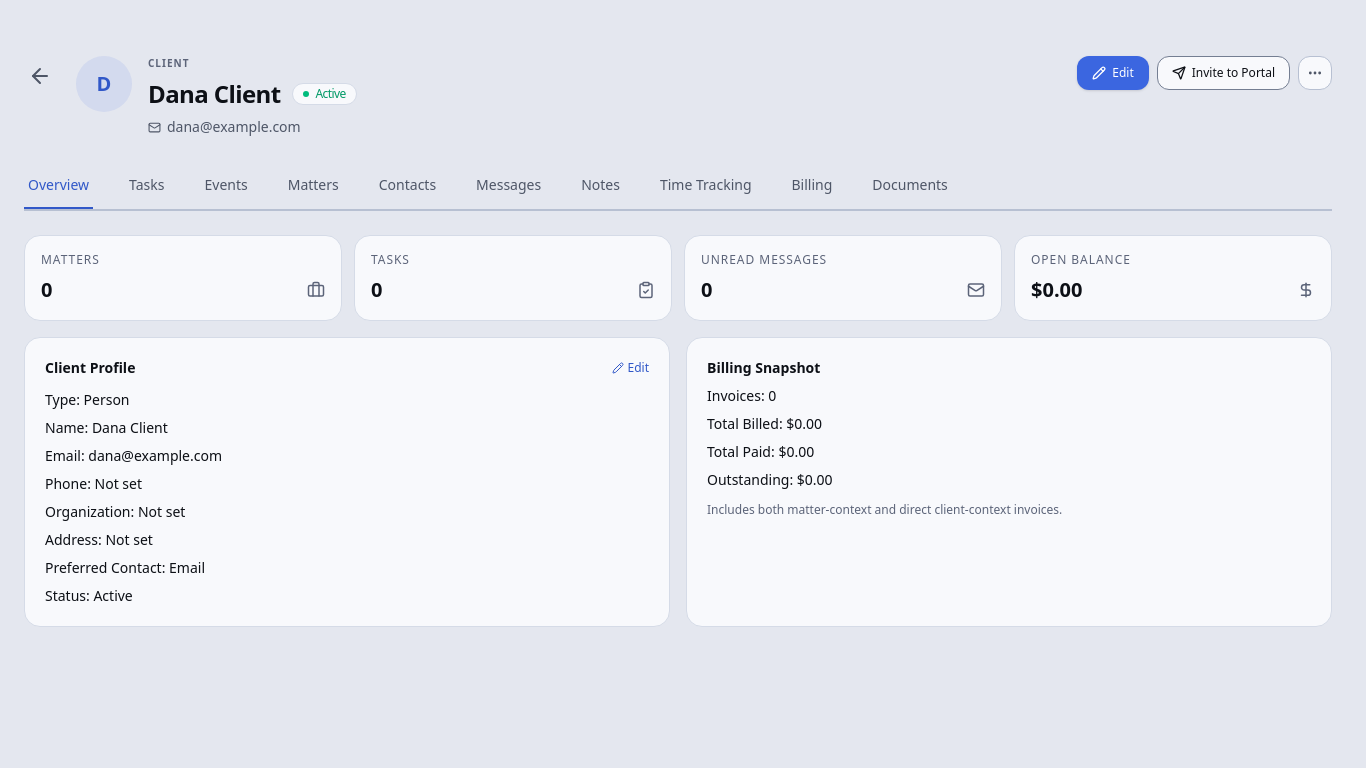
Test: a refused action: the removal fails › tells the user the client was not removed, and stays on the page
expect the heading "Dana Client Active" is shown: met, box [148, 77, 357, 110]
Click the button named "More actions": (1315, 73) [1298, 56, 1332, 90]
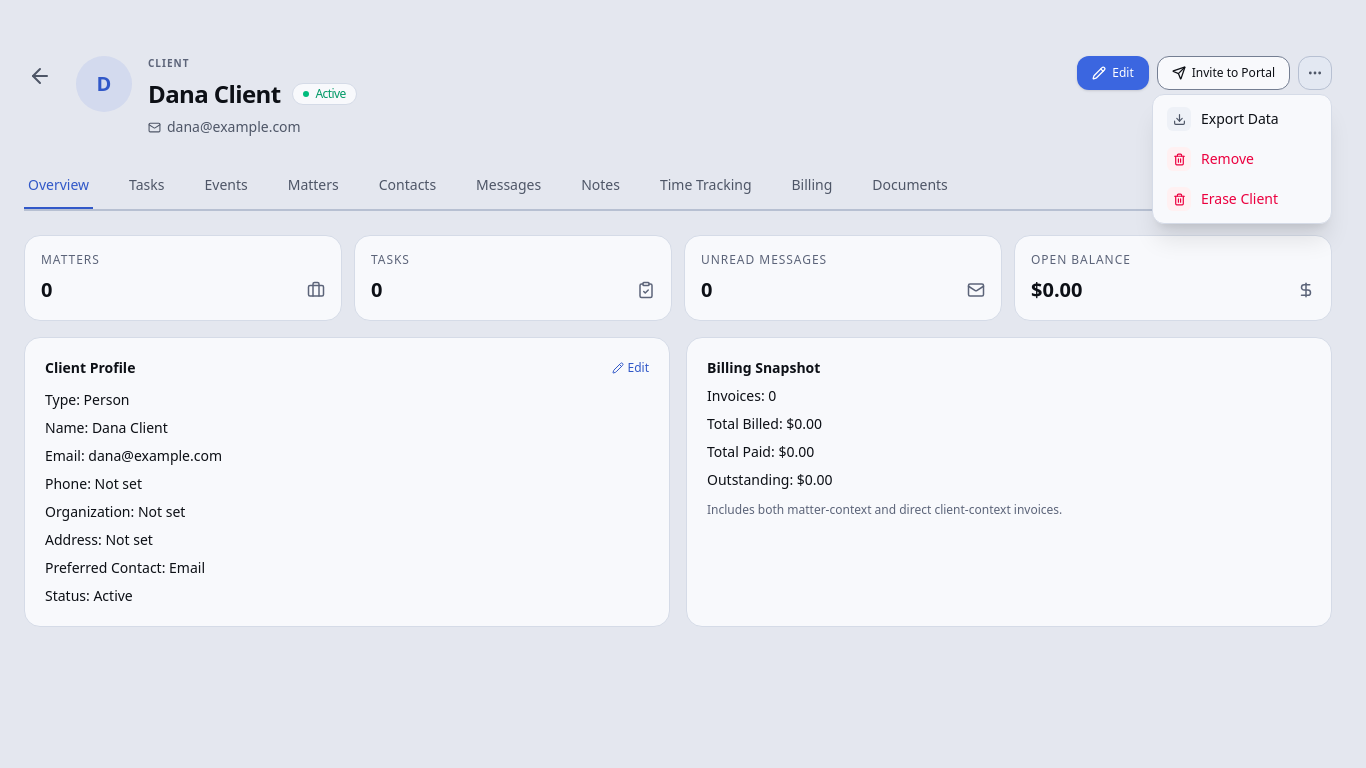
Click the button "Remove": (1242, 159) [1157, 139, 1327, 179]
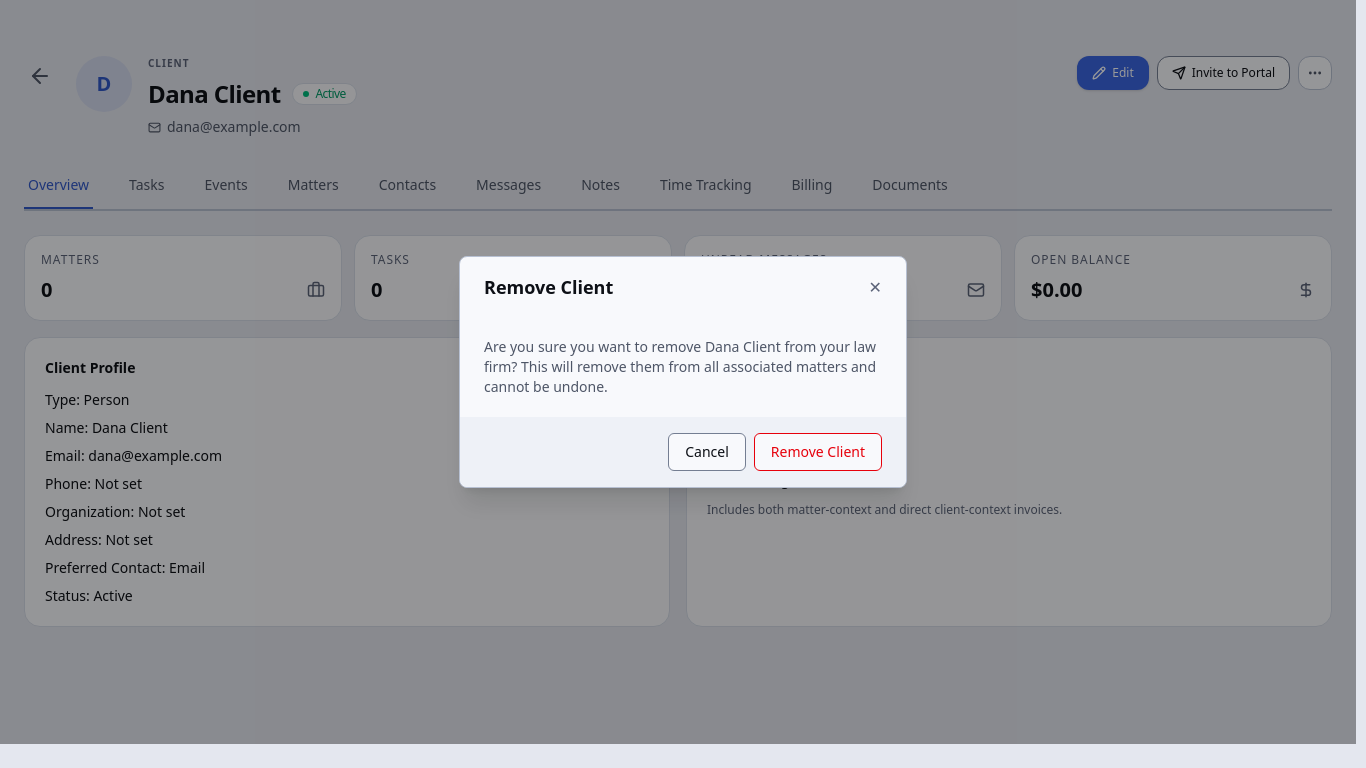
Click the button "Remove Client": (818, 452) [754, 433, 882, 471]
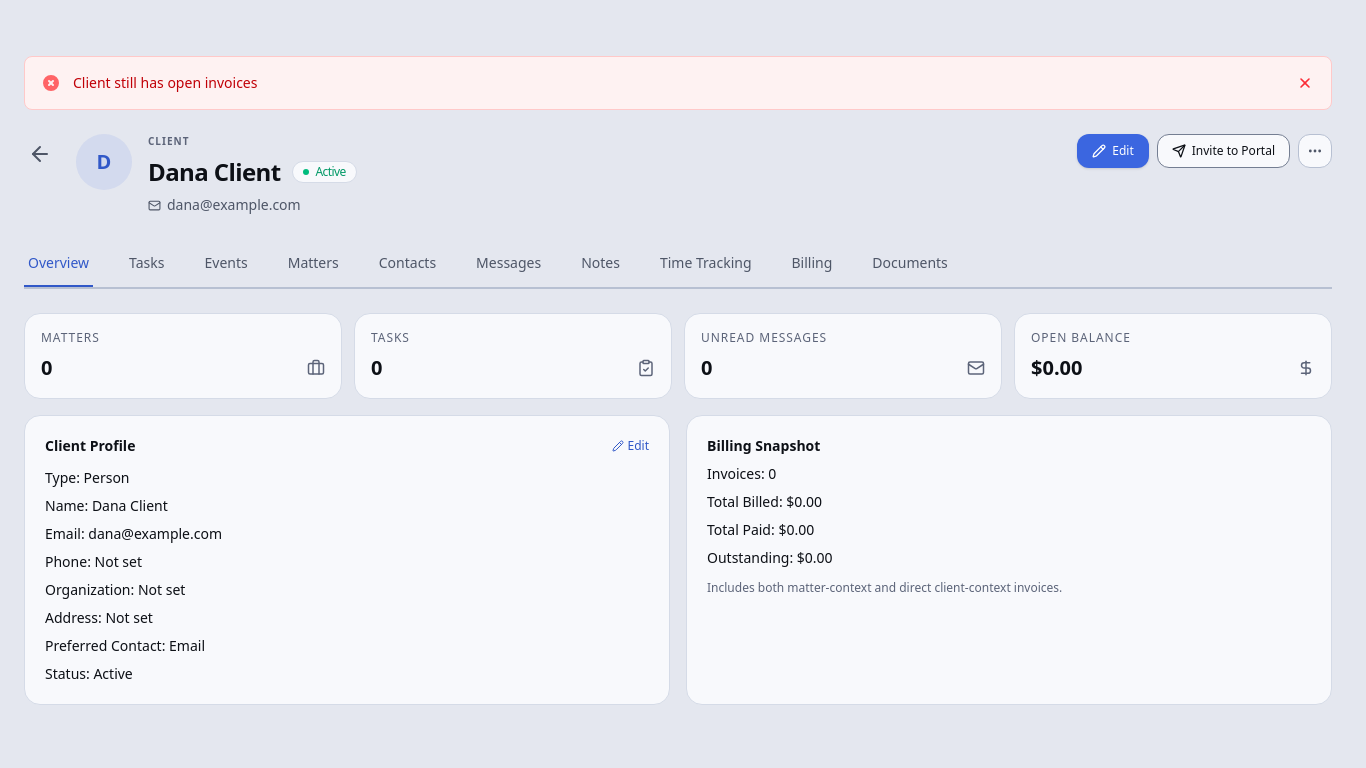
expect the heading "Dana Client Active" is shown: met, box [148, 155, 357, 188]
expect the text "Client still has open invoices" is shown: met, box [73, 73, 258, 92]
